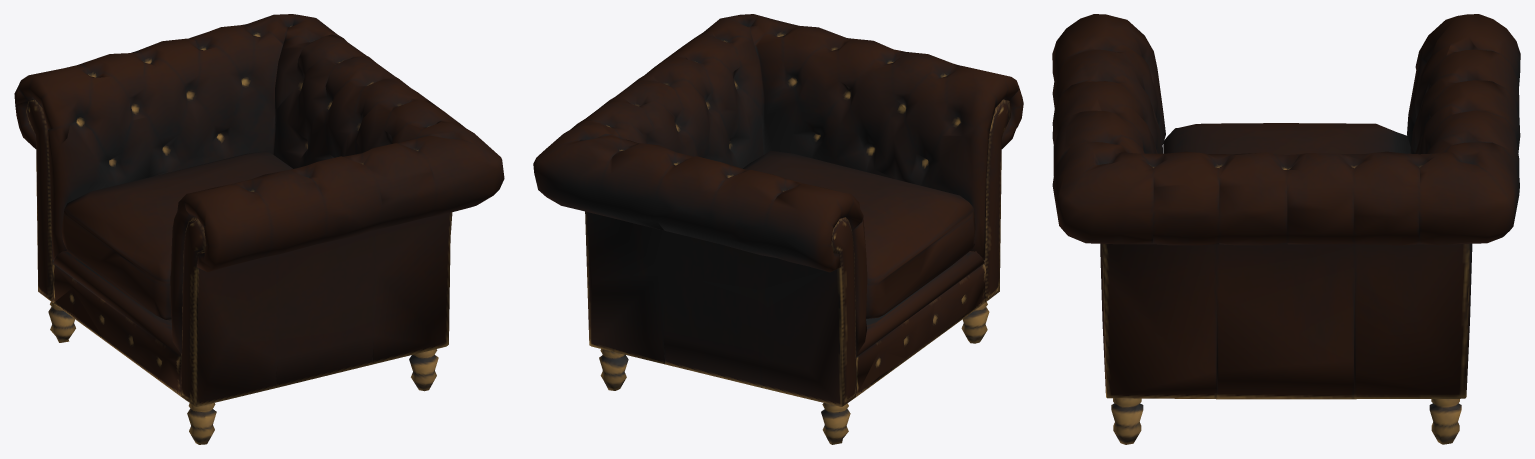
The model's file is SM_BrooklynSofa_Small.fbx.
3 renders of one model, left to right at view 1: azimuth 30°, elevation 25°; view 2: azimuth 150°, elevation 25°; view 3: azimuth 270°, elevation 25°, orthographic. The views are drawn at different scales.
Visible parts, largest first — view 1: SM_BrooklynSofa_Small_LOD0; view 2: SM_BrooklynSofa_Small_LOD0; view 3: SM_BrooklynSofa_Small_LOD0.
Part boxes in pixels (x1,y1,x2,y2): SM_BrooklynSofa_Small_LOD0: (14, 14, 504, 444); SM_BrooklynSofa_Small_LOD0: (533, 14, 1023, 444); SM_BrooklynSofa_Small_LOD0: (1052, 14, 1520, 444).
Size of the model in its own units: 143 by 166 by 116.
Materials: 1 (1 with a texture image).
